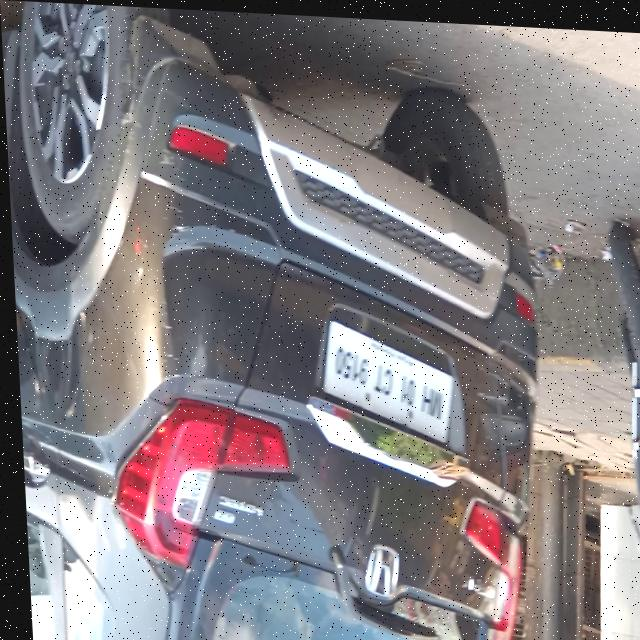plate: (315, 314, 456, 449)
